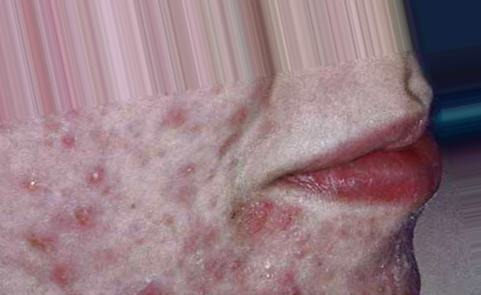Acne: (18, 108, 433, 294)
